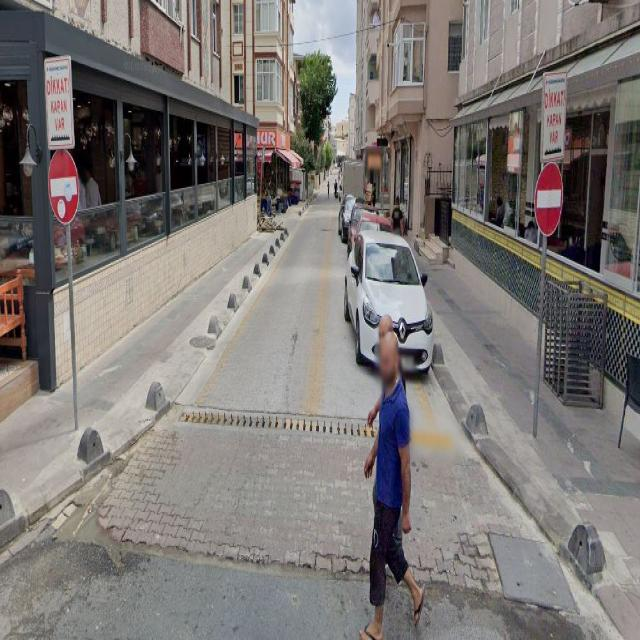girisyok: (48, 149, 78, 225), (534, 163, 564, 235)
